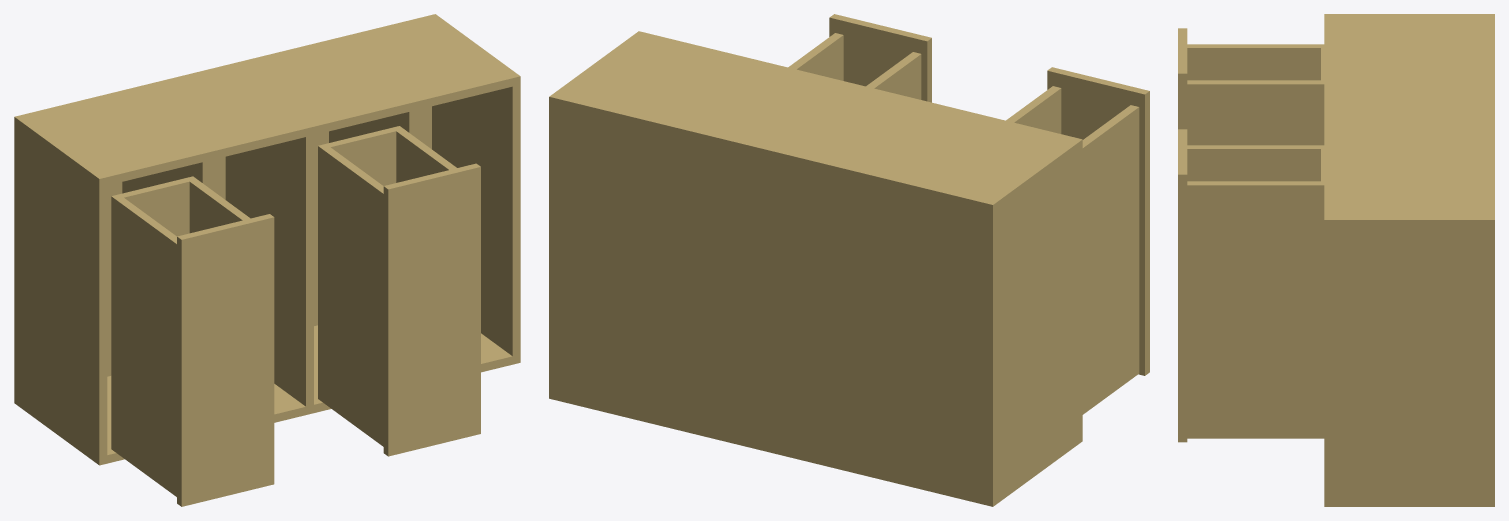
Rendered from meuble_690c2cc232116.glb.
3 views of the same model, side by side, from view 1: azimuth 30°, elevation 25°; view 2: azimuth 150°, elevation 25°; view 3: azimuth 270°, elevation 25° (orthographic). The views are drawn at different scales.
Parts seen in each view (by area): view 1: world; view 2: world; view 3: world.
Part boxes in pixels (x1=…): world: x1=14, y1=14, x2=520, y2=506; world: x1=549, y1=14, x2=1149, y2=506; world: x1=1178, y1=14, x2=1494, y2=506.
Size of the model in its own units: 1 by 0.65 by 0.65.
